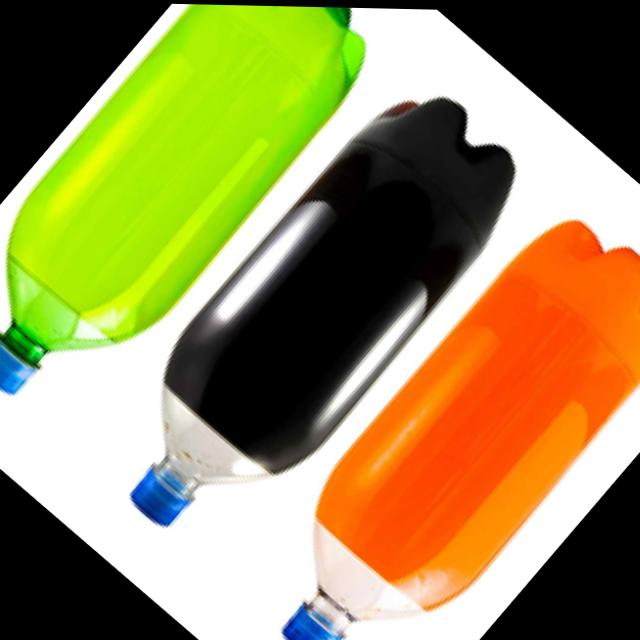plastic_soda_bottles: (73, 58, 545, 581), (224, 185, 640, 640), (0, 0, 395, 447)
